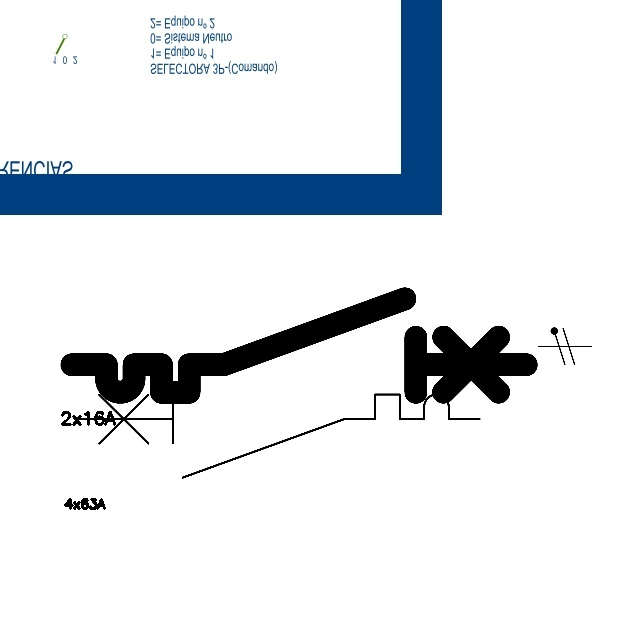interruptor_termomagnetico: (60, 287, 538, 404), (64, 384, 490, 488)
